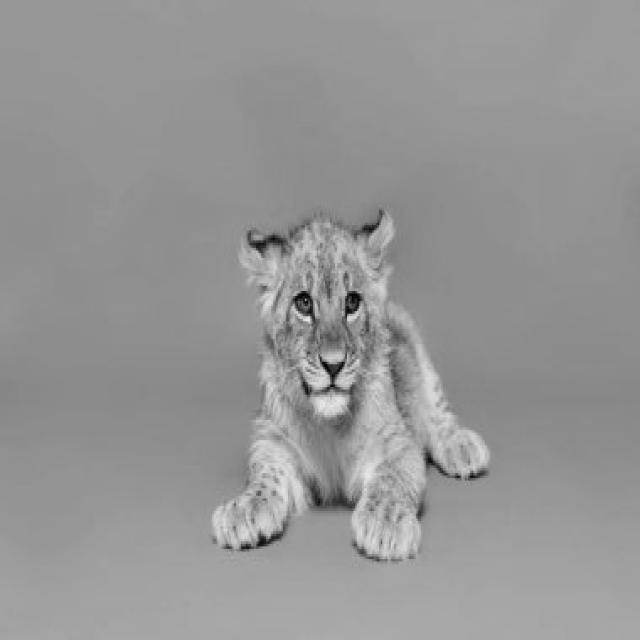Animal: (211, 205, 491, 568)
